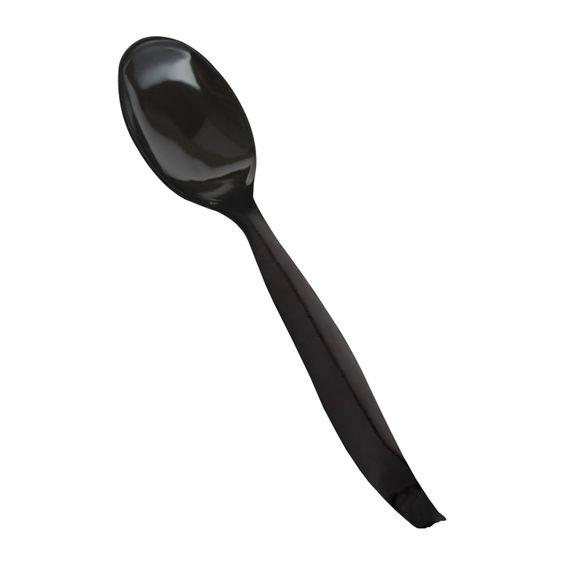PS: (116, 35, 444, 531)
